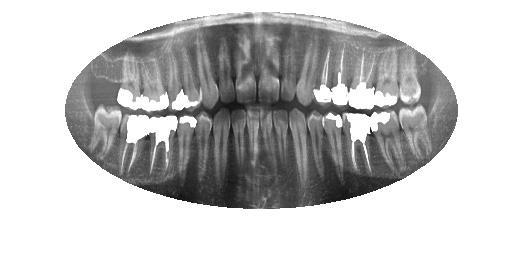Fillings: (169, 51, 199, 112), (140, 50, 168, 113), (374, 48, 401, 108), (322, 109, 345, 178), (117, 48, 142, 110), (370, 111, 401, 151), (176, 112, 198, 166)
Implant: (343, 110, 374, 172), (119, 114, 151, 174), (349, 47, 378, 111), (153, 115, 177, 180), (312, 38, 332, 104), (332, 41, 352, 106)
